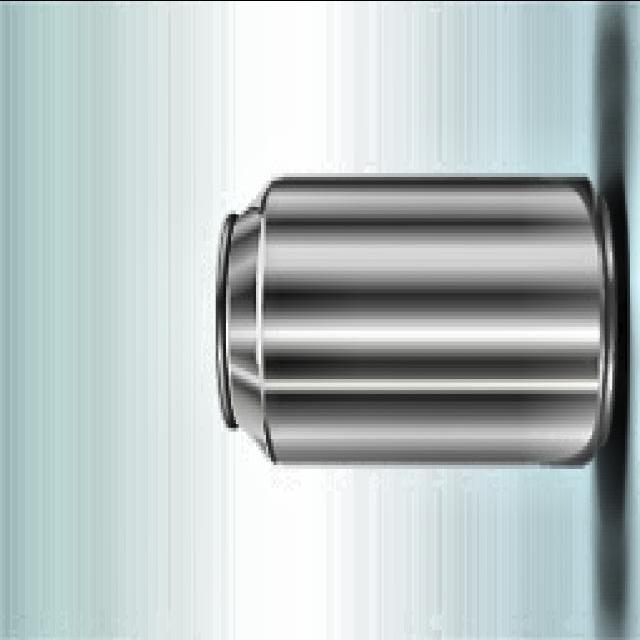Aluminum Can: (208, 160, 620, 478)
